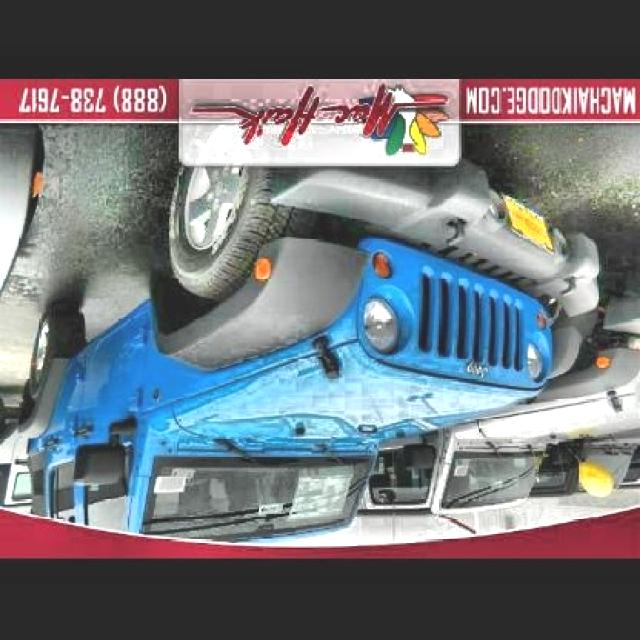blue: (41, 180, 518, 534)
